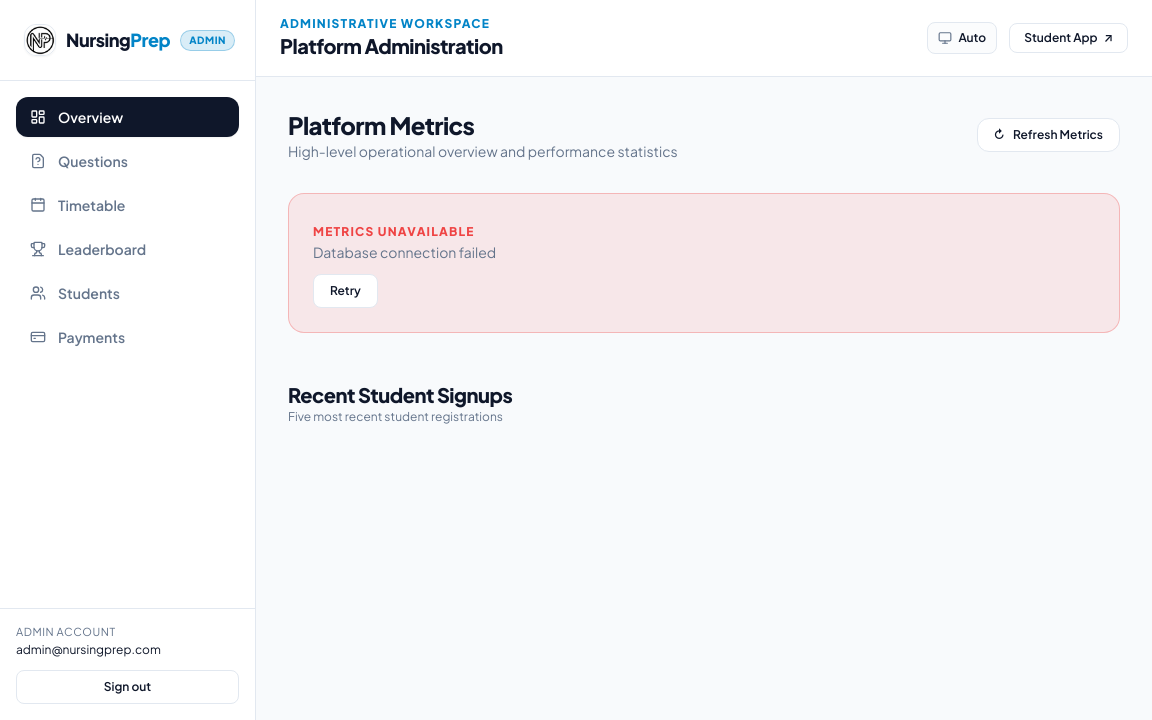
Test case: Admin Shell & Overview Tests › RPC error shows retry
The width and height of the screenshot is (1152, 720).
Expected: the text "Metrics Unavailable" is shown, [313,224,474,239]
Expected: the text "Database connection failed" is shown, [313,243,496,261]
Click the button "Retry": (345, 291) [313,274,378,308]
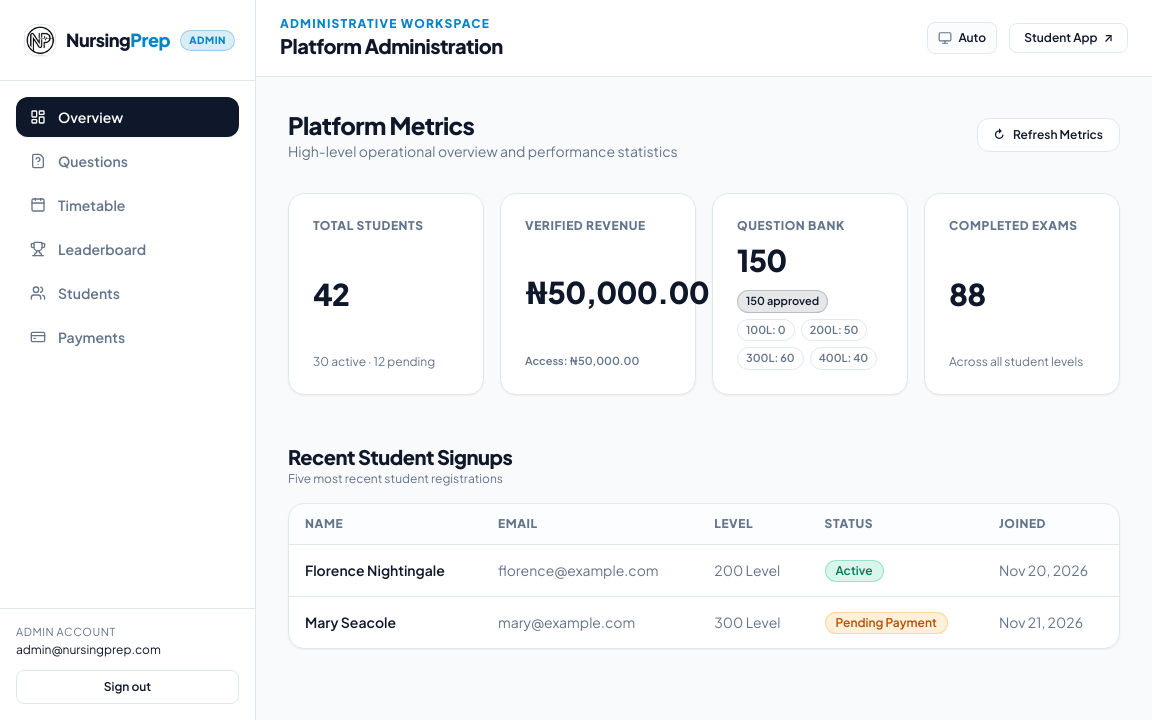
Expected: the text "42" is shown, [313,275,349,313]
Expected: the text "Florence Nightingale" is shown, [289,544,482,596]
